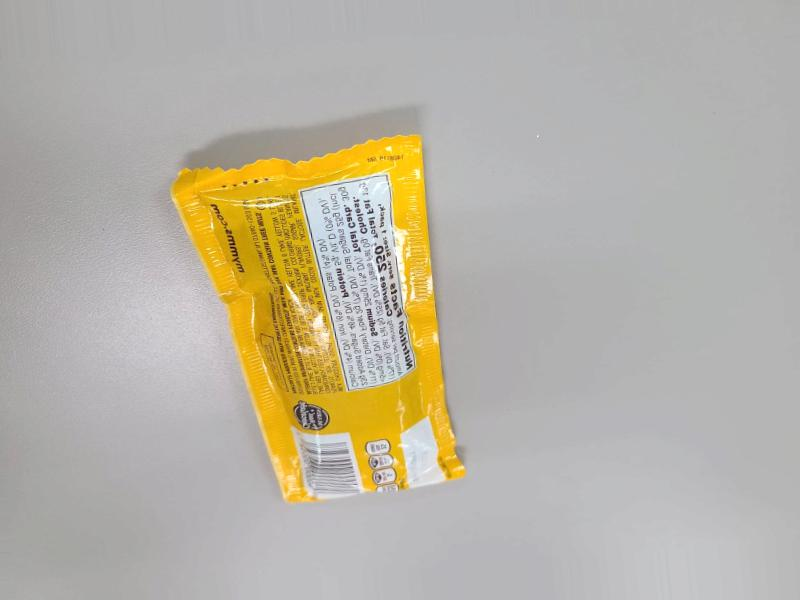m&m: (148, 109, 452, 507)
